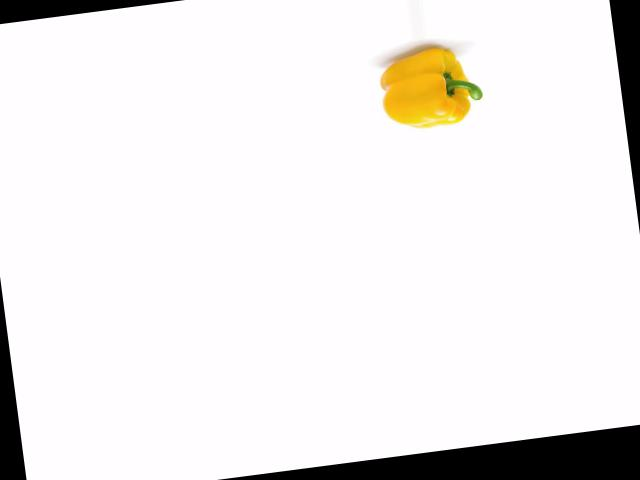bell_pepper: (373, 41, 494, 137)
